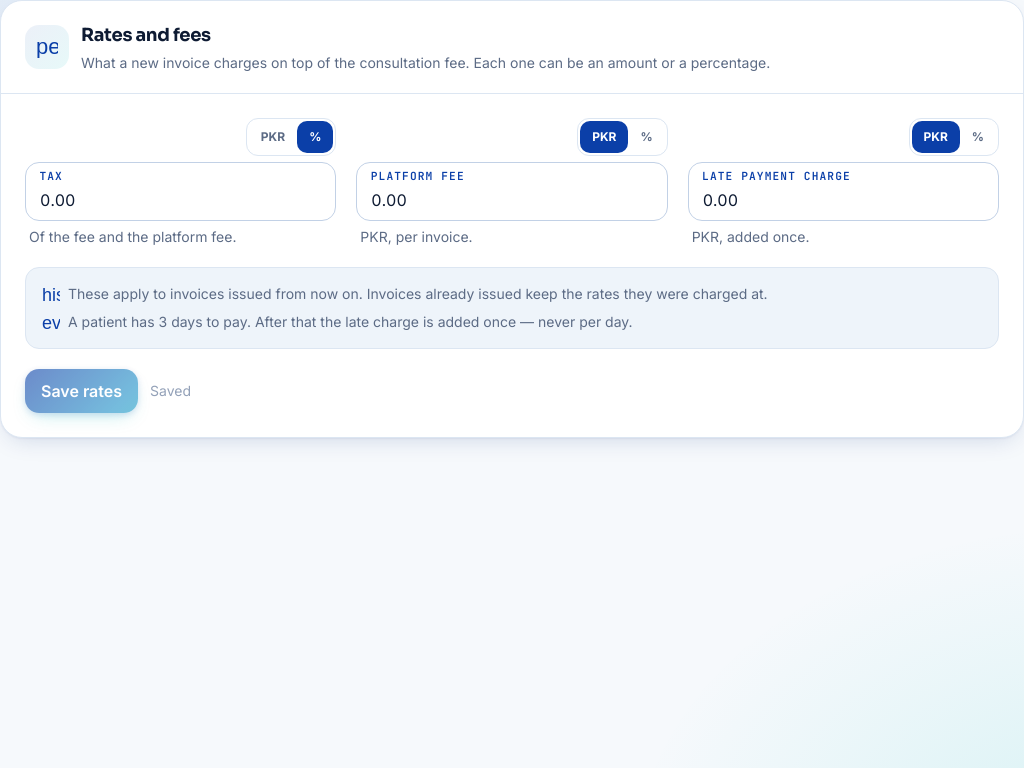
it: the mode travels with the value › shows what the number means, and changes it with the mode
Expected: the field labelled "Late payment charge" is shown, [688,162,999,221]
Expected: the text "PKR, added once." is shown, [692,228,810,245]
Click the 3rd button "%" at (978, 137), box [960,121,996,153]
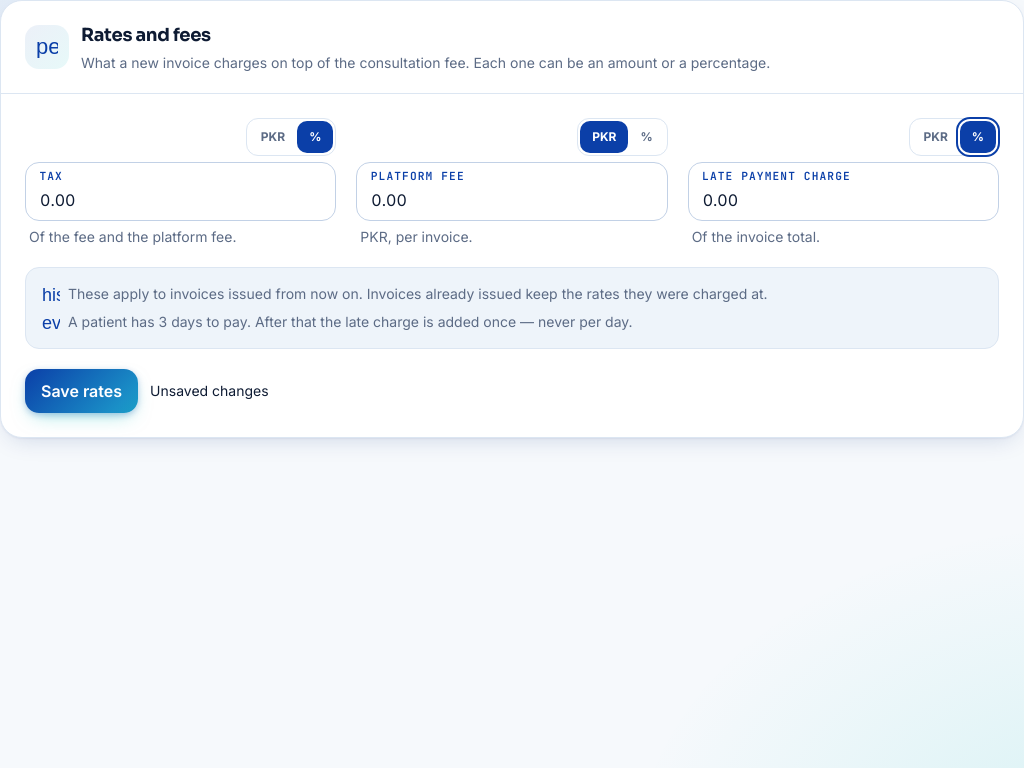
Result: the text "Of the invoice total." is shown at [692,228,820,245]
